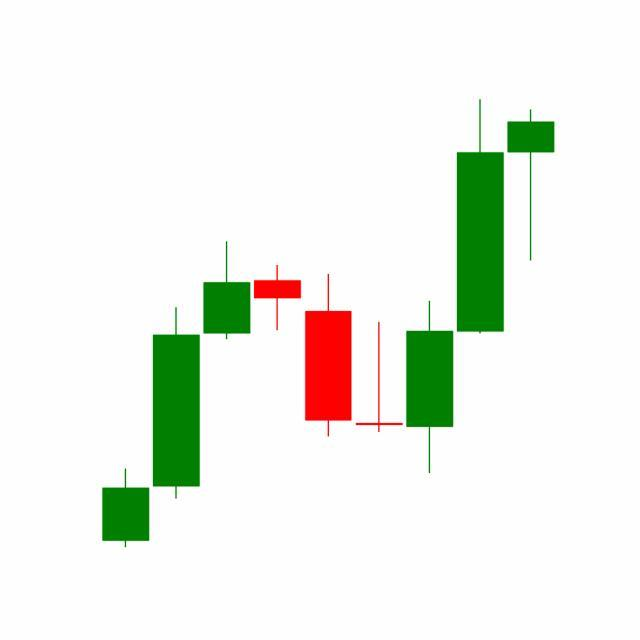Hikkake Pattern: (252, 99, 506, 478)
